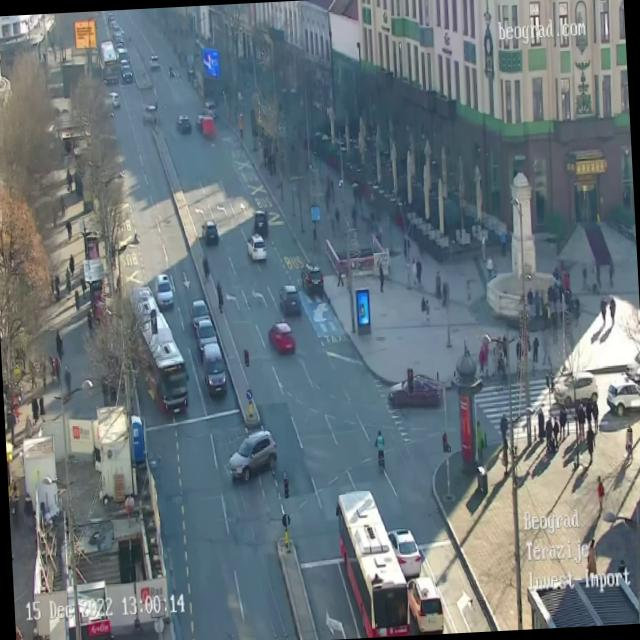bus: (336, 488, 412, 638), (124, 282, 190, 416), (98, 42, 118, 87)
car: (229, 426, 278, 478), (408, 570, 445, 634), (388, 373, 443, 409), (554, 372, 598, 407), (605, 377, 640, 418), (203, 342, 228, 397), (392, 532, 421, 572), (268, 320, 296, 354), (152, 270, 175, 308), (194, 318, 217, 352), (303, 266, 323, 297), (622, 348, 640, 380), (282, 281, 300, 311), (202, 220, 219, 247), (249, 236, 266, 262), (254, 211, 270, 238), (195, 115, 212, 140), (203, 101, 219, 122), (192, 298, 206, 318), (178, 114, 190, 134), (150, 53, 160, 74), (122, 68, 132, 86), (109, 94, 118, 105)
